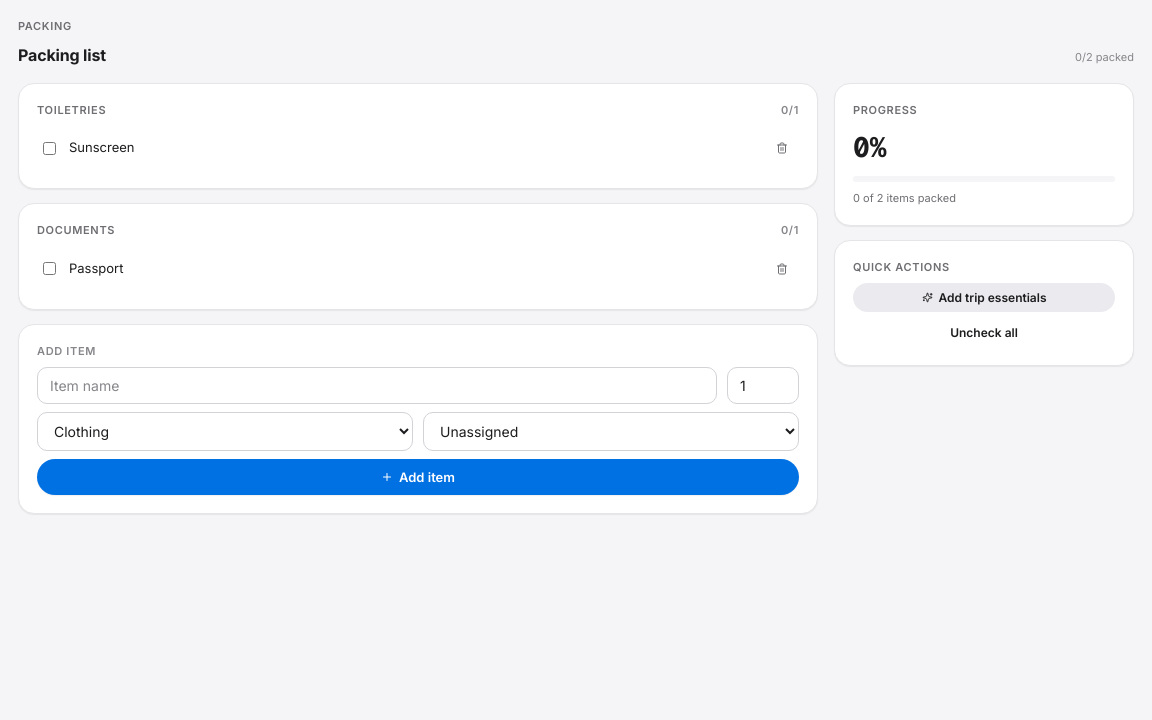
Test: PackingView › tracks packed progress as items are checked
Expected: the text "0%" is shown, [853, 129, 887, 165]
Click the checkbox next to "Sunscreen" at (50, 148), box [43, 142, 56, 154]
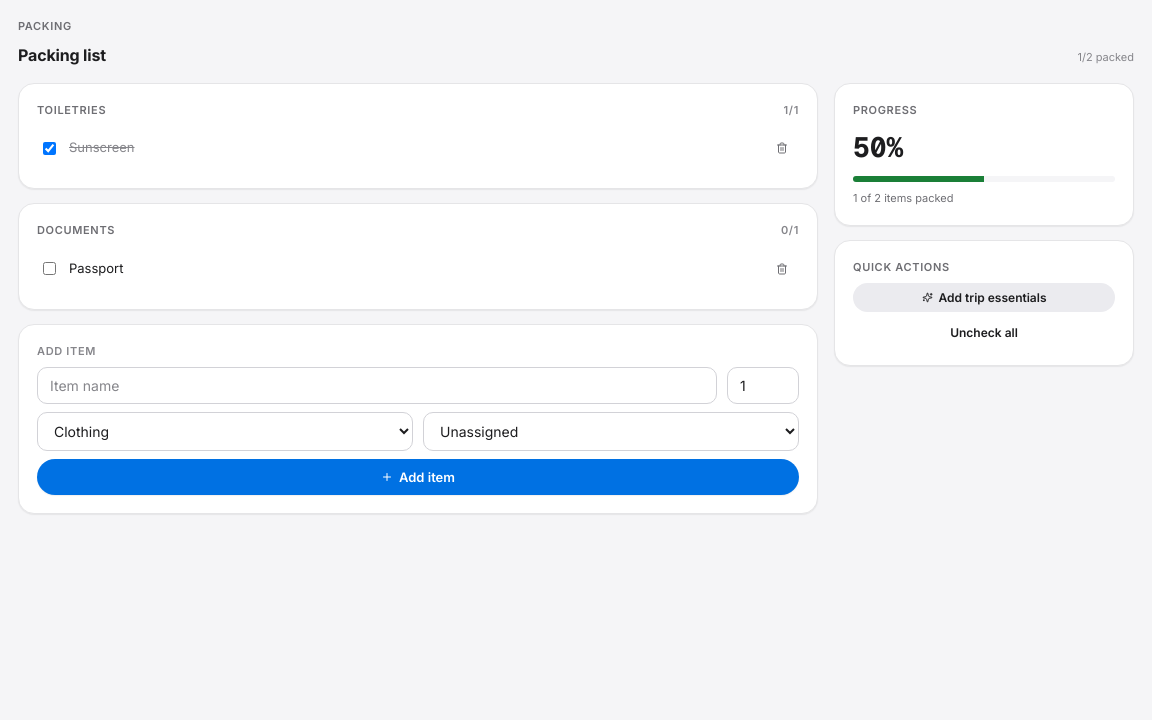
Expected: the text "50%" is shown, [853, 129, 903, 165]
Expected: the text "1 of 2 items packed" is shown, [853, 191, 954, 205]
